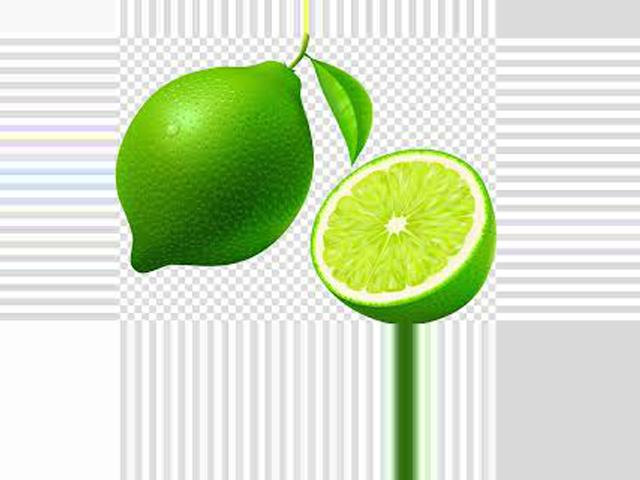lemon: (117, 57, 342, 280)
